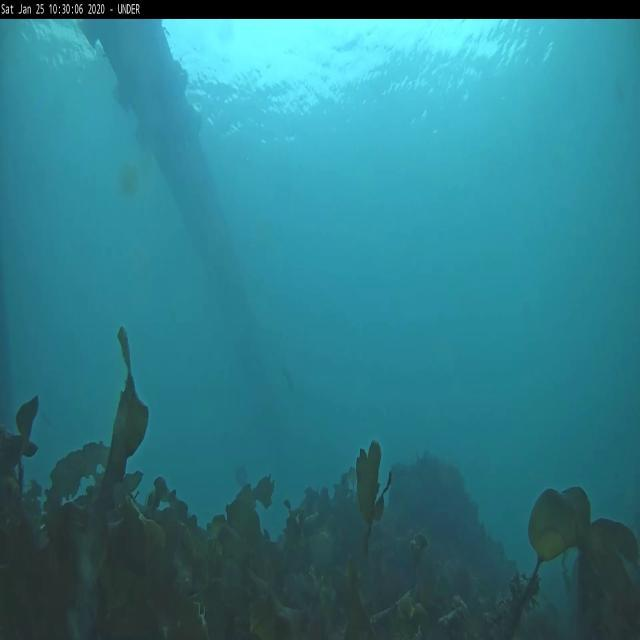fish: (282, 358, 298, 396), (234, 460, 250, 490)
